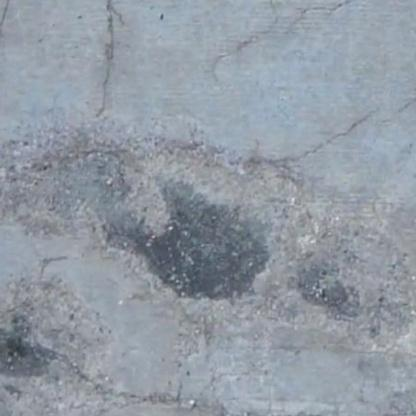Cracks: (44, 348, 416, 416), (220, 68, 416, 181), (84, 0, 133, 125), (220, 0, 293, 69), (0, 0, 29, 101)
